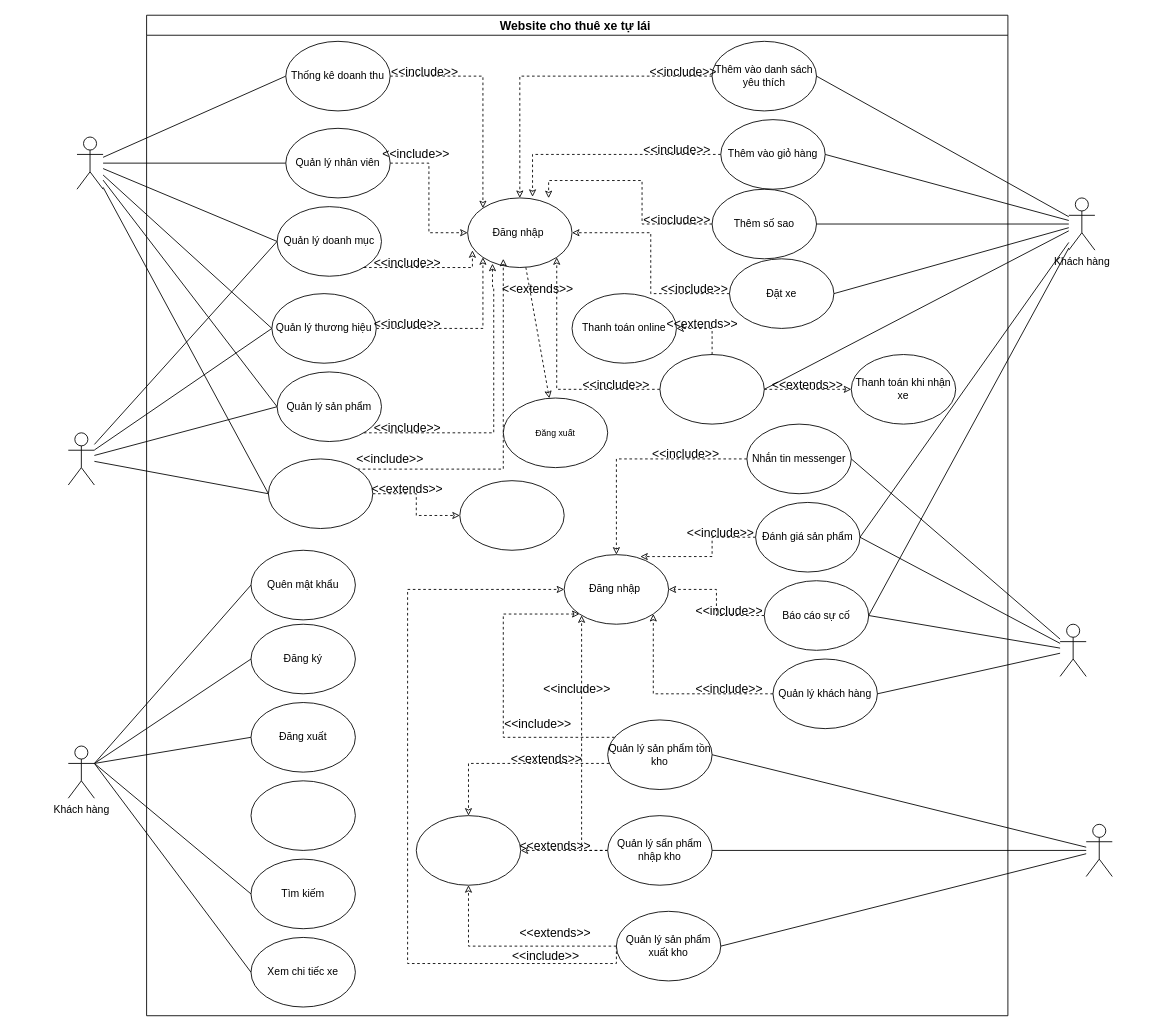
Some shapes in this 1166 by 1031 pixel diagram are drawn without their labels. Each missing label, with the box of its shape:
Chủ xe: (76, 136, 103, 189)
Nhân viên chăm sóc khách hàng: (1059, 623, 1086, 676)
Nhân viên quản lý kho: (1085, 823, 1112, 877)
Nhân viên quản lý sản phẩm: (67, 432, 94, 485)
Quản lý hóa đơn: (268, 458, 373, 529)
Thanh toán: (659, 354, 764, 424)
Xuất báo cáo: (415, 815, 521, 885)
Xuất hóa đơn: (459, 480, 564, 550)
Đổi mật khẩu: (250, 780, 355, 850)
